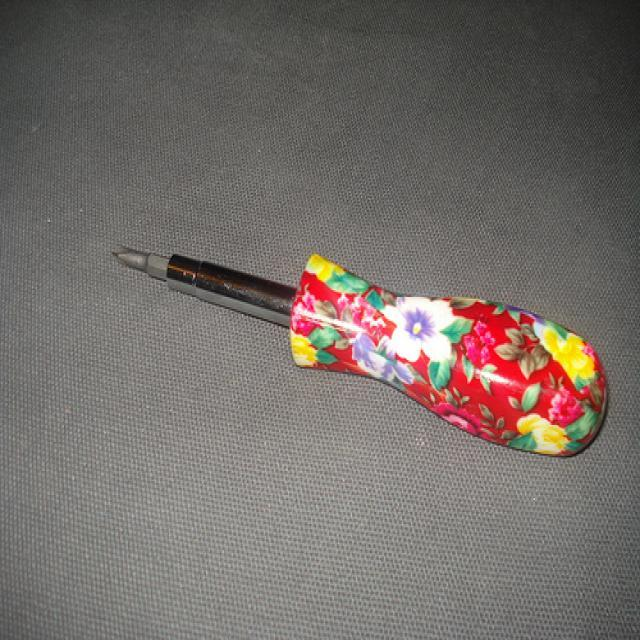screwdriver: (90, 222, 630, 474)
